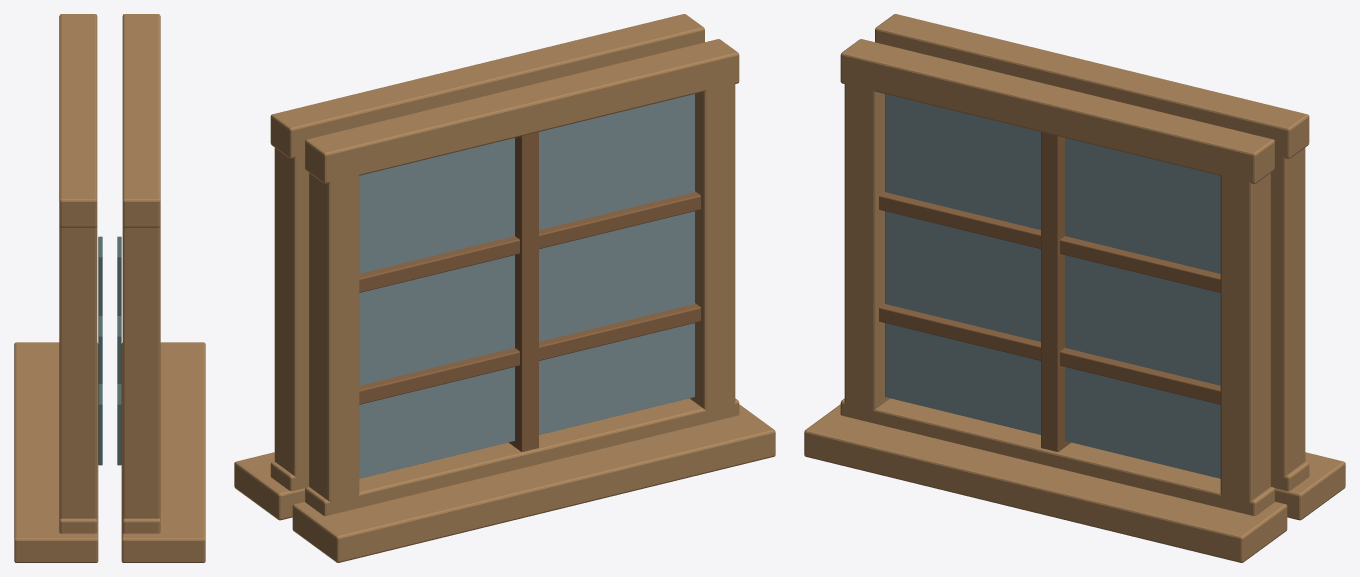
Rendered from SM_CP_CrimeWindow.fbx.
3 views of the same model, side by side, from view 1: azimuth 30°, elevation 25°; view 2: azimuth 150°, elevation 25°; view 3: azimuth 270°, elevation 25° (orthographic). The views are drawn at different scales.
Parts seen in each view (by area): view 1: SM_CP_CrimeWindow; view 2: SM_CP_CrimeWindow; view 3: SM_CP_CrimeWindow.
Boxes of the visible parts, x1,y1,x2,y2 form: SM_CP_CrimeWindow: [14, 14, 205, 562]; SM_CP_CrimeWindow: [234, 14, 775, 562]; SM_CP_CrimeWindow: [804, 14, 1345, 562].
Size of what is drawn, in the model's own units: 189 by 237 by 188.
